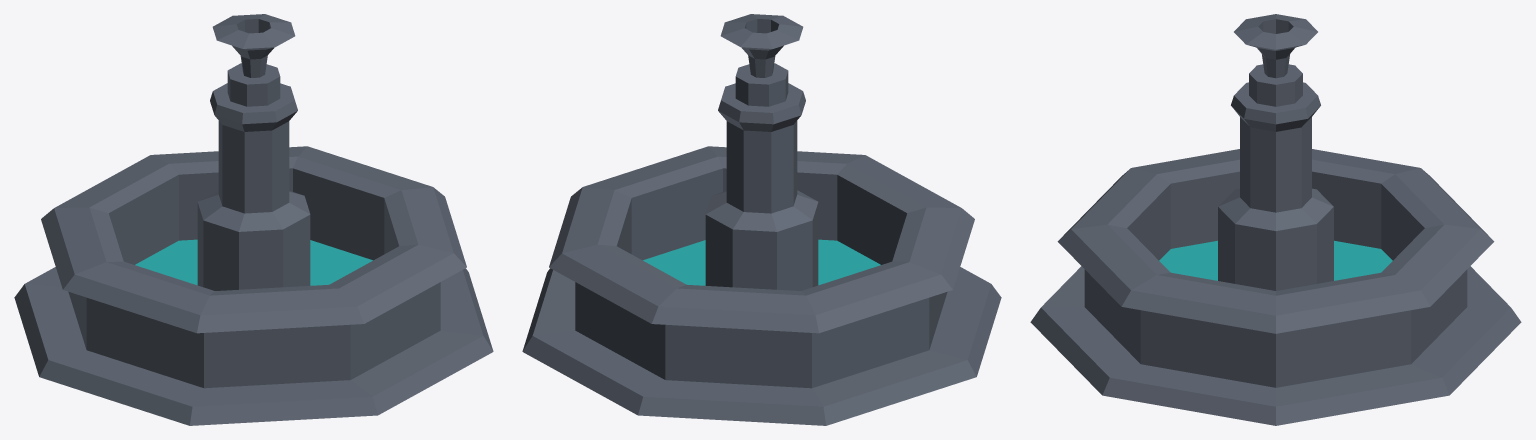
Rendered from fountain.fbx.
3 views of the same model, side by side, from view 1: azimuth 30°, elevation 25°; view 2: azimuth 150°, elevation 25°; view 3: azimuth 270°, elevation 25° (orthographic).
Parts seen in each view (by area): view 1: polySurface53; view 2: polySurface53; view 3: polySurface53.
Boxes of the visible parts, x1,y1,x2,y2 form: polySurface53: (14, 14, 493, 425); polySurface53: (522, 14, 1001, 425); polySurface53: (1030, 14, 1521, 425).
Size of the model in its own units: 16.16 by 10.73 by 16.16.
